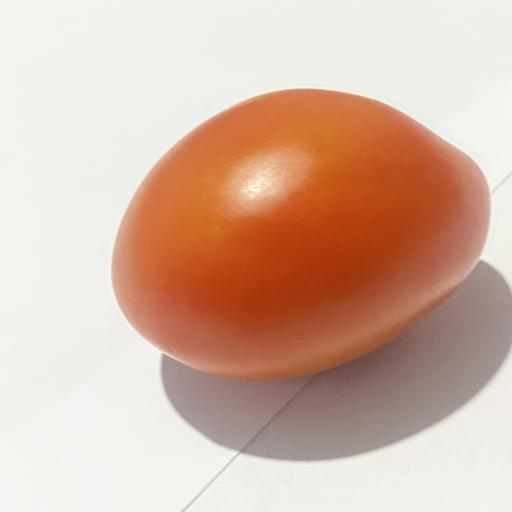ripe: (113, 89, 489, 380)
